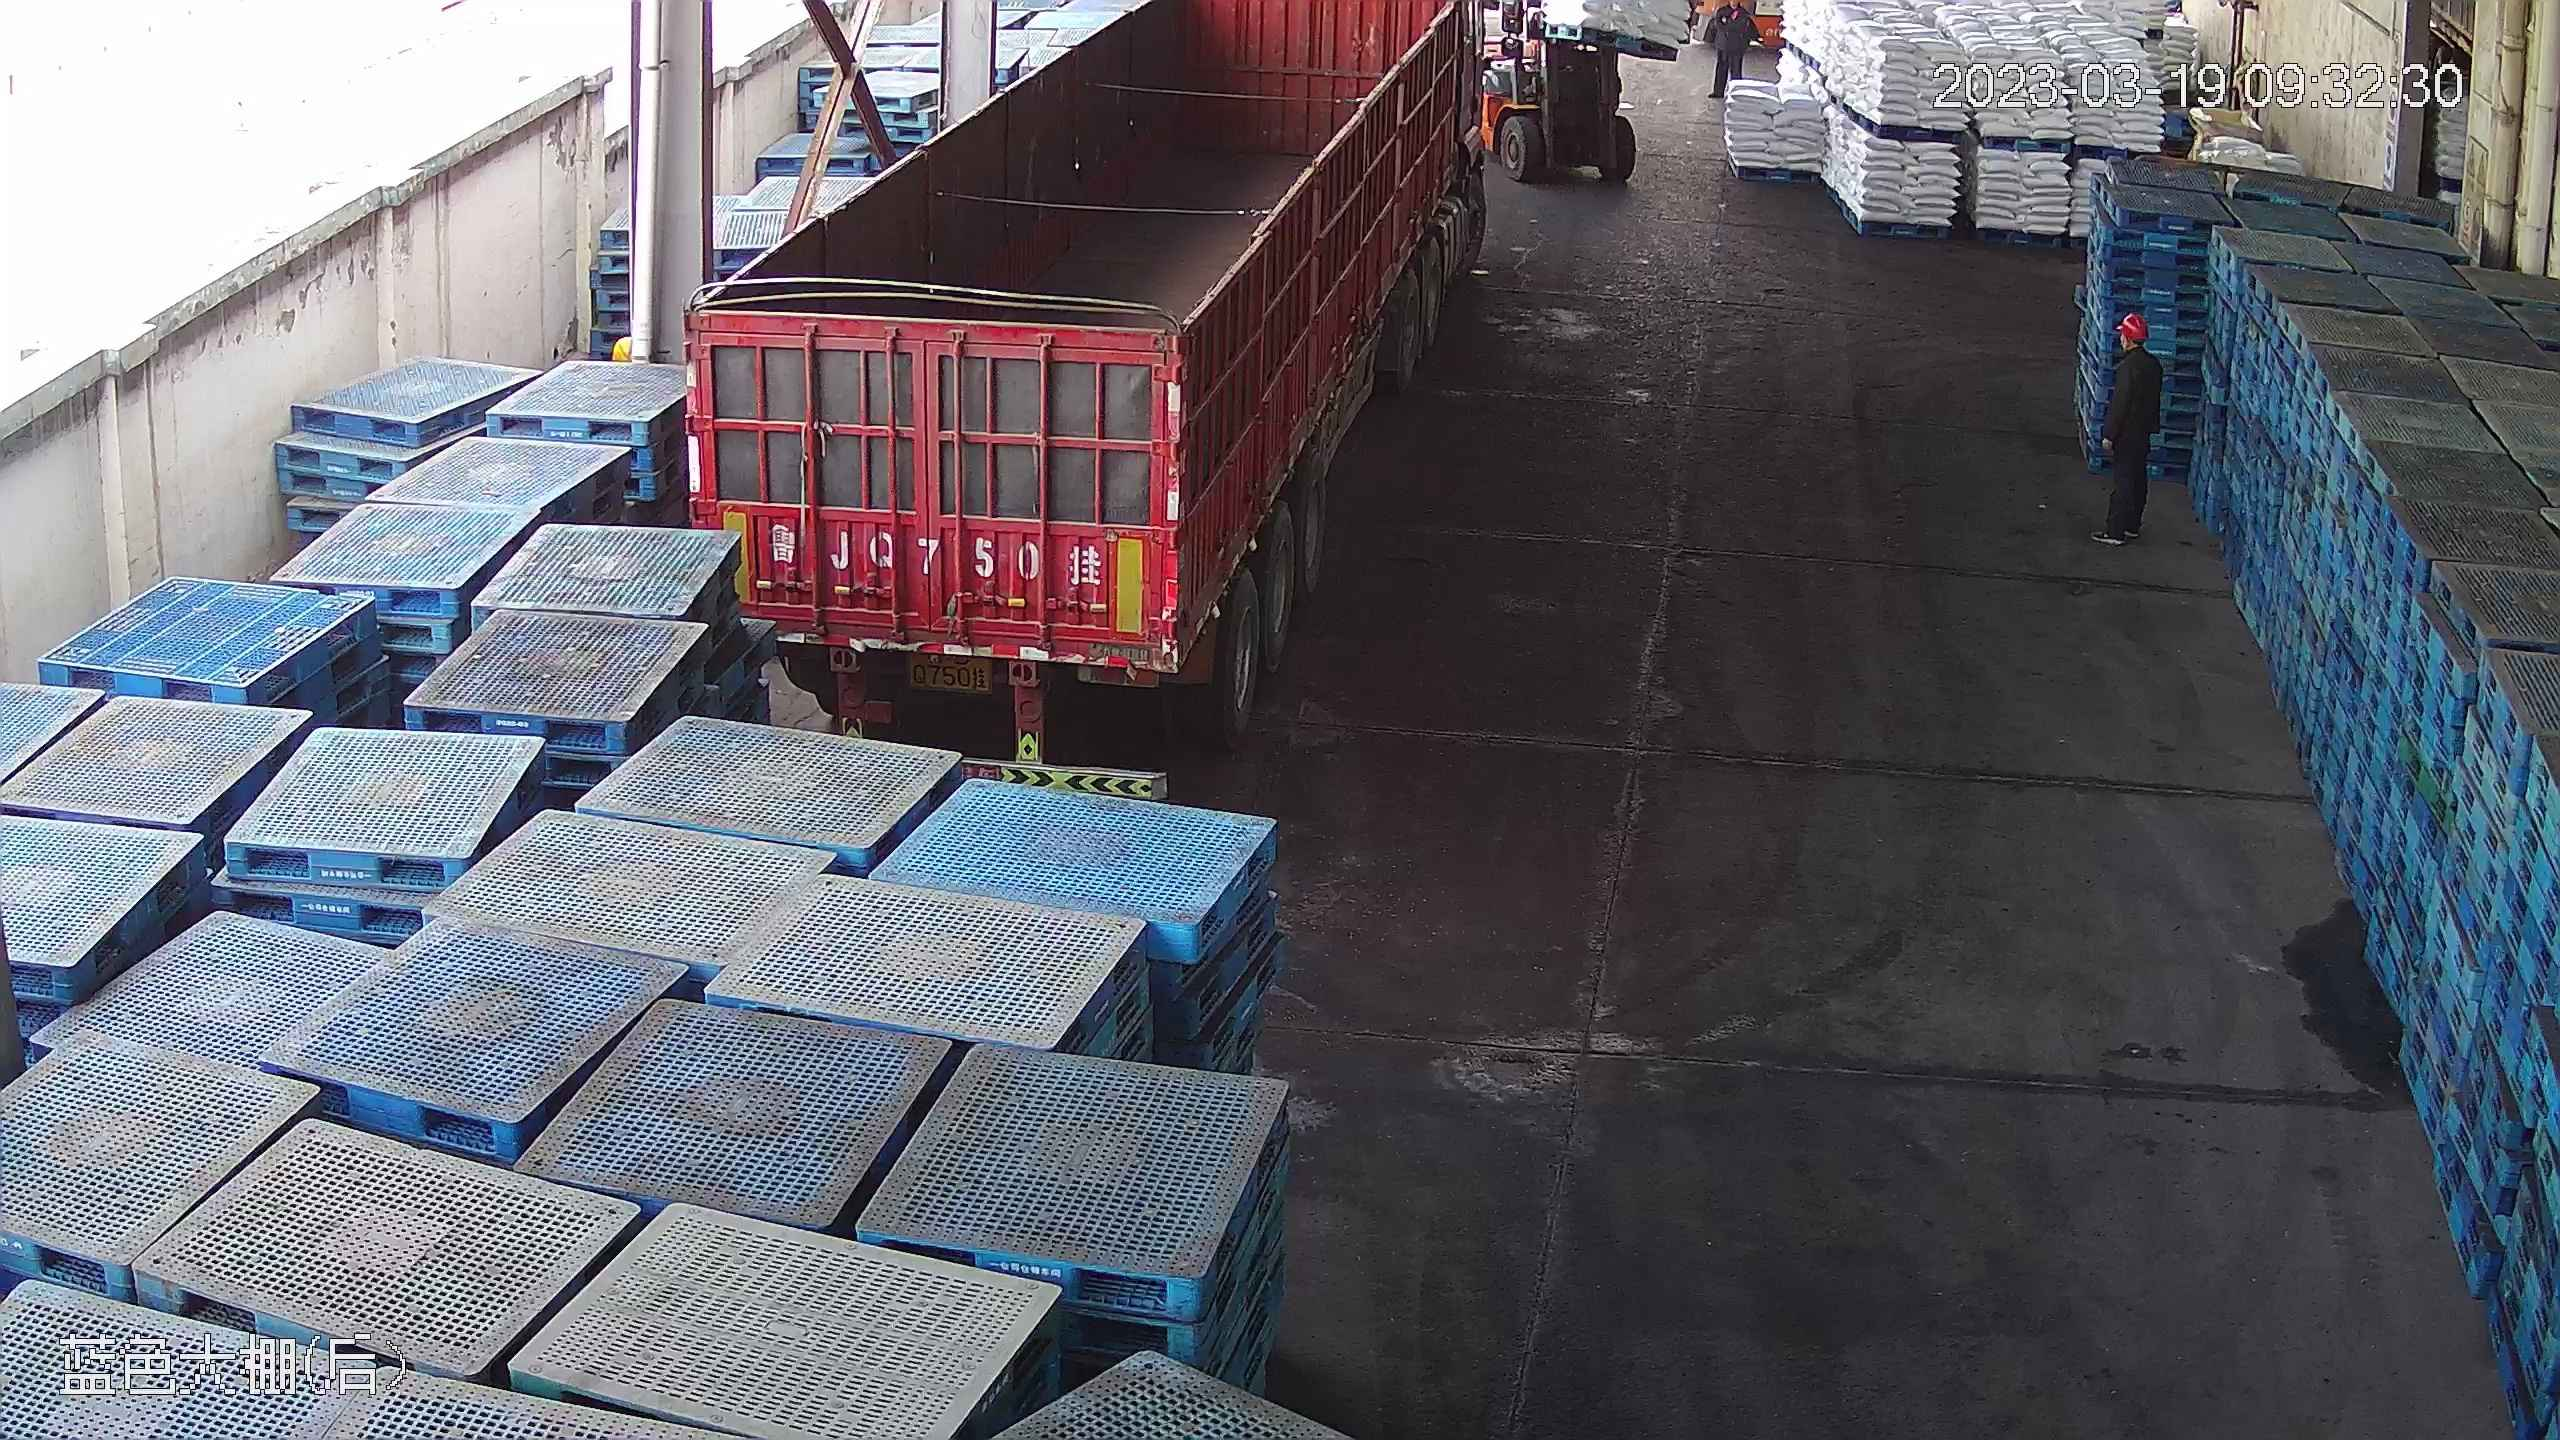head: (2105, 309, 2160, 381)
helmet: (2117, 309, 2148, 336)
people: (2088, 301, 2165, 548), (1702, 6, 1754, 86)
truck: (706, 0, 1523, 788)
